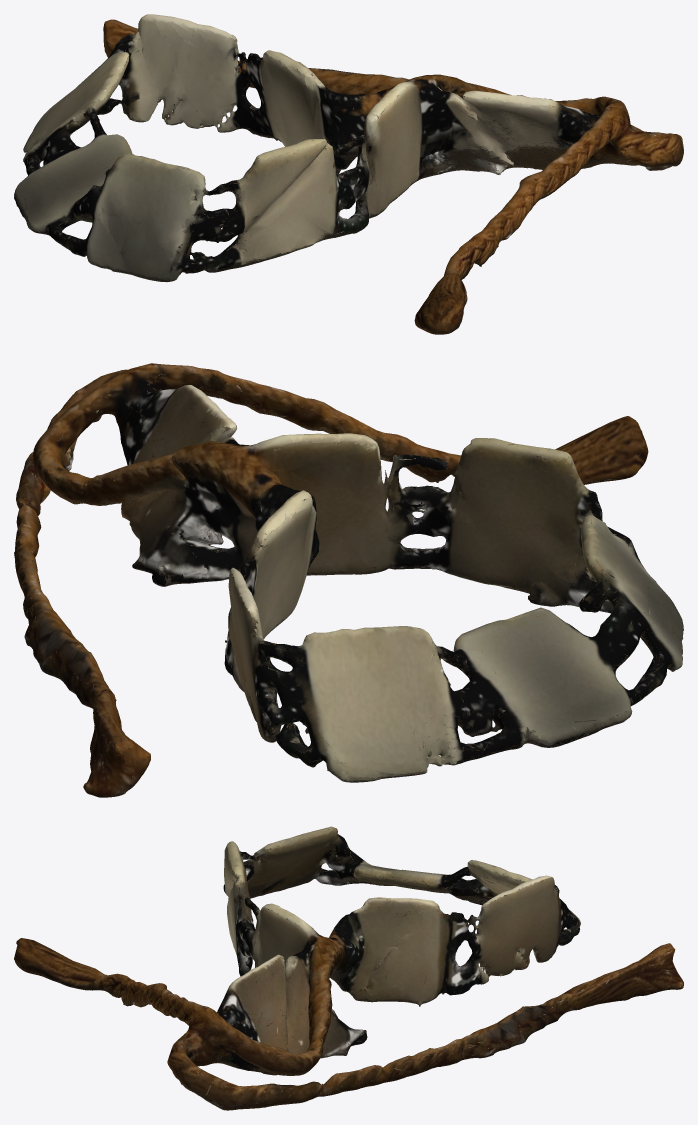
Rendered from qlone_root1-reduce_rebake-cc.glb.
3 views of the same model, one above another, from view 1: azimuth 30°, elevation 25°; view 2: azimuth 150°, elevation 25°; view 3: azimuth 270°, elevation 25° (orthographic). The views are drawn at different scales.
Size of the model in its own units: 0.122 by 0.0238 by 0.1458.
Materials: 1 (1 with a texture image).
